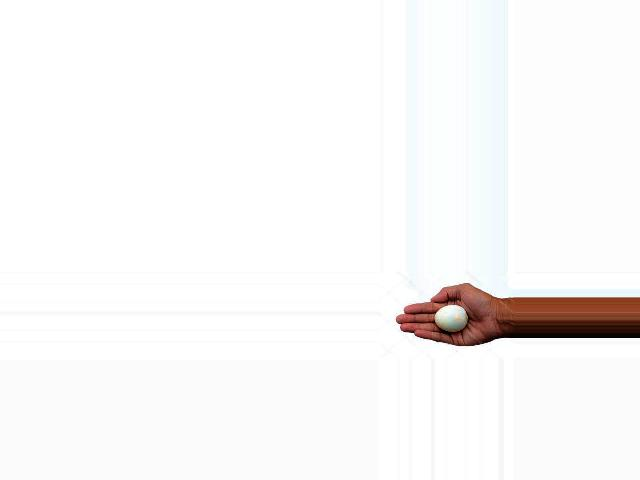egg: (433, 305, 467, 331)
